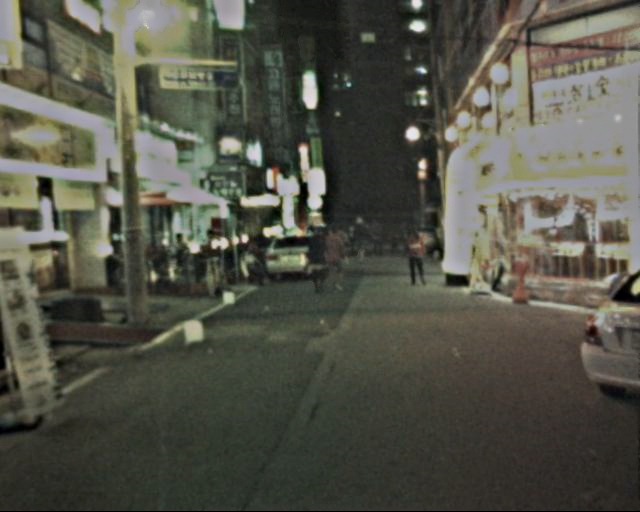person: (301, 226, 332, 300), (320, 223, 350, 298), (403, 225, 431, 290), (350, 215, 372, 264), (367, 219, 386, 260), (385, 228, 402, 259)
